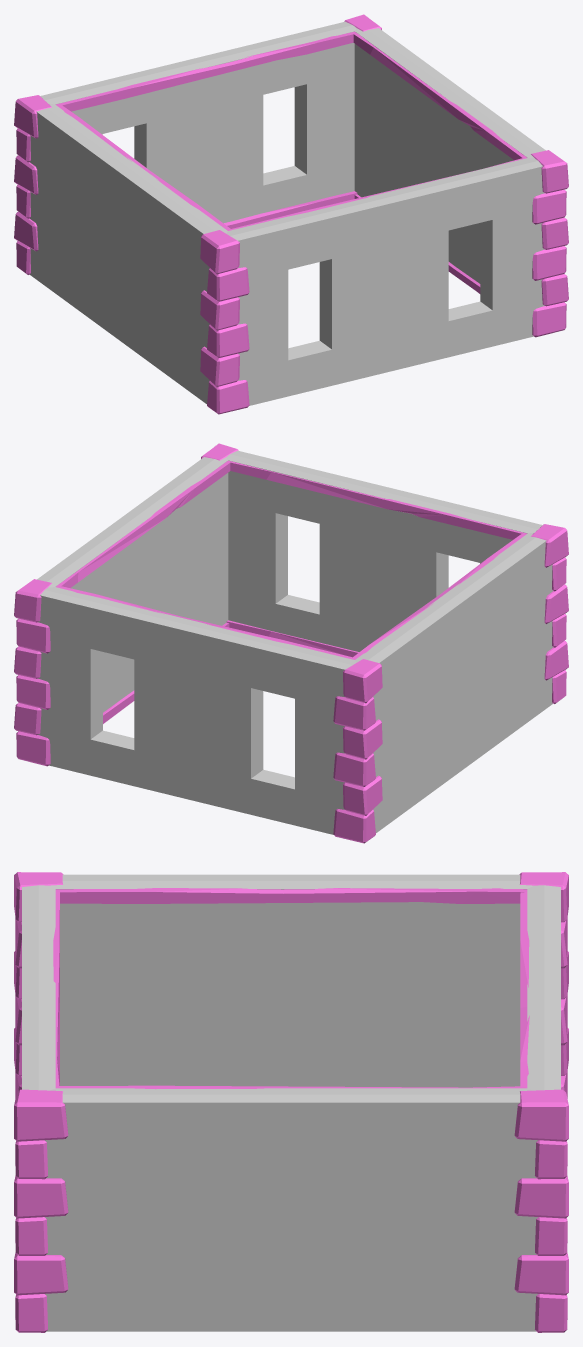
The model's file is SM_Tower_Square_6m_Windows_Cross_Fantasy_Base.fbx.
The picture shows the model from 3 angles, top to bottom: view 1: azimuth 30°, elevation 25°; view 2: azimuth 150°, elevation 25°; view 3: azimuth 270°, elevation 25°; orthographic projection. The views are drawn at different scales.
Parts seen in each view (by area): view 1: SM_Tower_Square_6m_Windows_Cross_Fantasy_Base; view 2: SM_Tower_Square_6m_Windows_Cross_Fantasy_Base; view 3: SM_Tower_Square_6m_Windows_Cross_Fantasy_Base.
Boxes of the visible parts, left/top/right/bottom form: SM_Tower_Square_6m_Windows_Cross_Fantasy_Base: left=14, top=14, right=568, bottom=414; SM_Tower_Square_6m_Windows_Cross_Fantasy_Base: left=14, top=443, right=568, bottom=843; SM_Tower_Square_6m_Windows_Cross_Fantasy_Base: left=14, top=872, right=568, bottom=1332.
Size of the model in its own units: 6.61 by 3.05 by 6.59.
